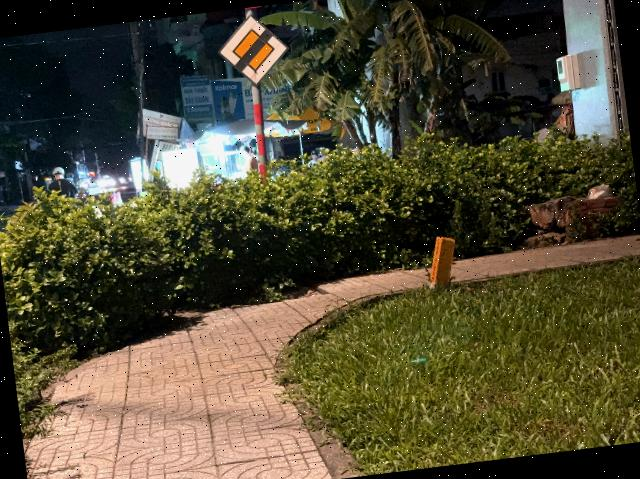het-duong-uu-tien: (212, 10, 294, 92)
